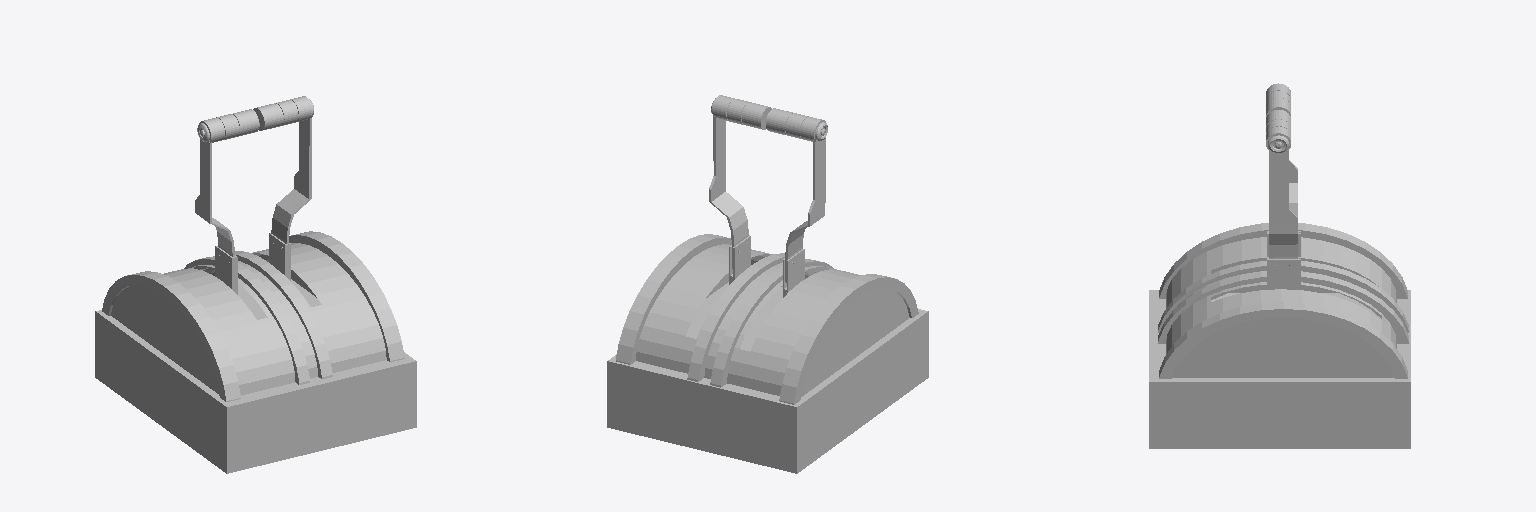
The model's file is lever.obj.
3 renders of one model, left to right at view 1: azimuth 30°, elevation 25°; view 2: azimuth 150°, elevation 25°; view 3: azimuth 270°, elevation 25°, orthographic.
Parts seen in each view (by area): view 1: polySurface19 lever:Mesh, polySurface9; view 2: polySurface19 lever:Mesh, polySurface9; view 3: polySurface19 lever:Mesh, polySurface9.
Boxes of the visible parts, box(x1,y1,x2,y2) form: polySurface19 lever:Mesh: box(95, 231, 416, 473); polySurface9: box(195, 96, 313, 294); polySurface19 lever:Mesh: box(607, 234, 928, 473); polySurface9: box(709, 95, 827, 297); polySurface19 lever:Mesh: box(1149, 223, 1410, 448); polySurface9: box(1266, 83, 1300, 289).
Size of the model in its own units: 145 by 215 by 174.